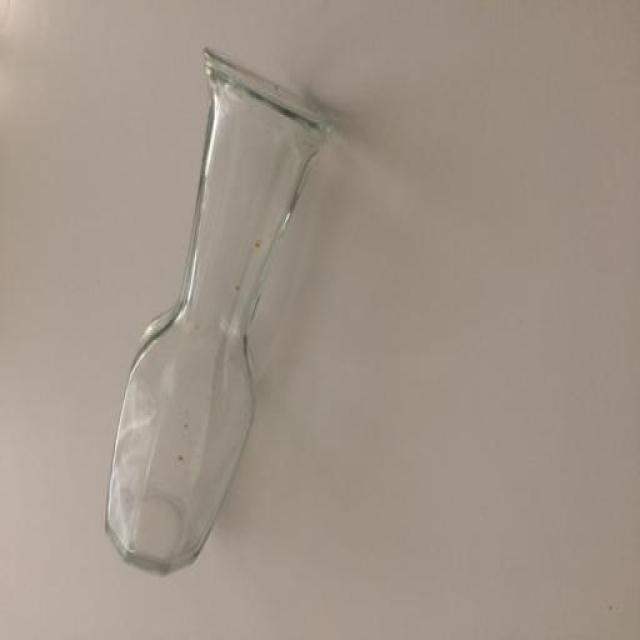Glass: (90, 42, 358, 580)
